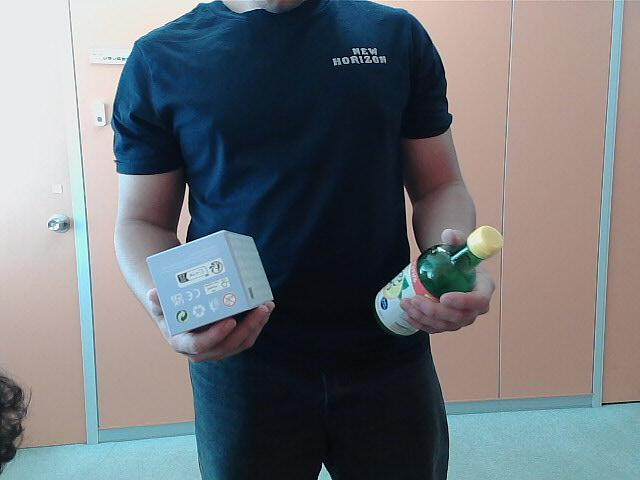Blind_box: (142, 228, 277, 336)
Lemon_sapporo: (373, 225, 503, 342)
